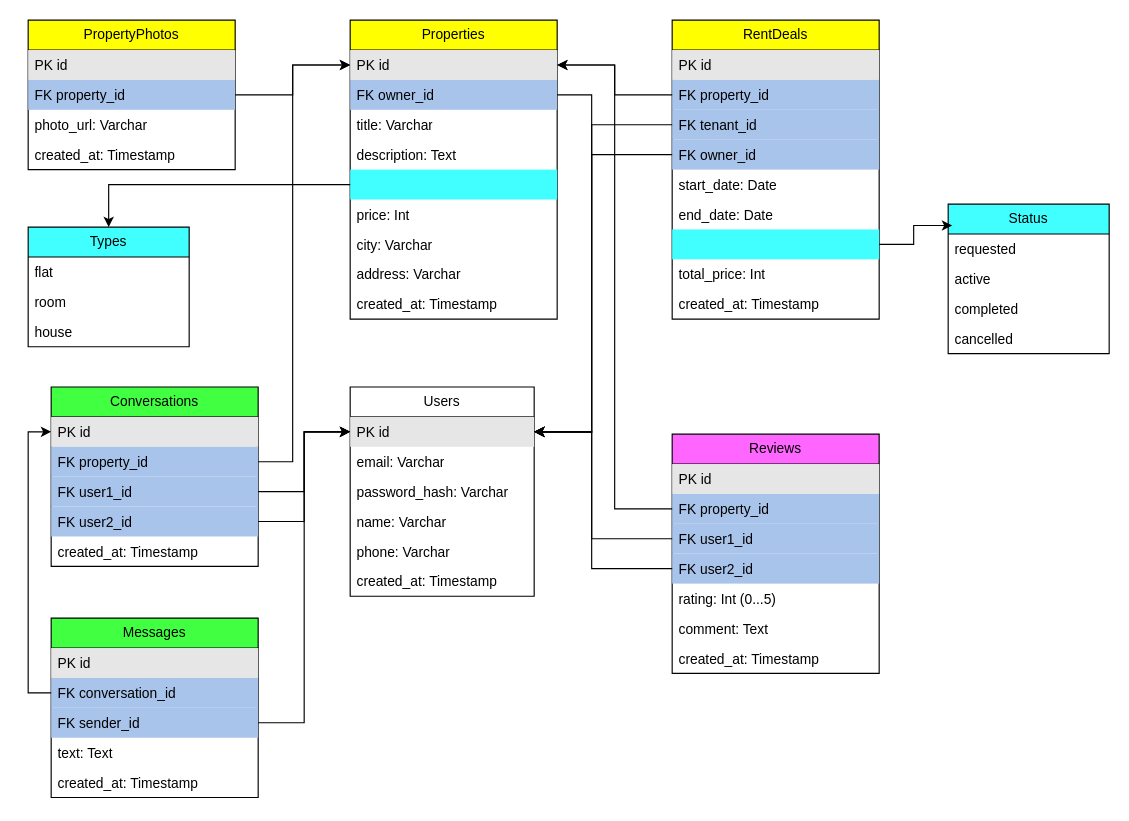
Image size: 1129x821. Some labels were removed from this diagram. Each missing label, with the centre of its shape:
status: Enum: the point at 775,244
type: Enum: the point at 453,184
